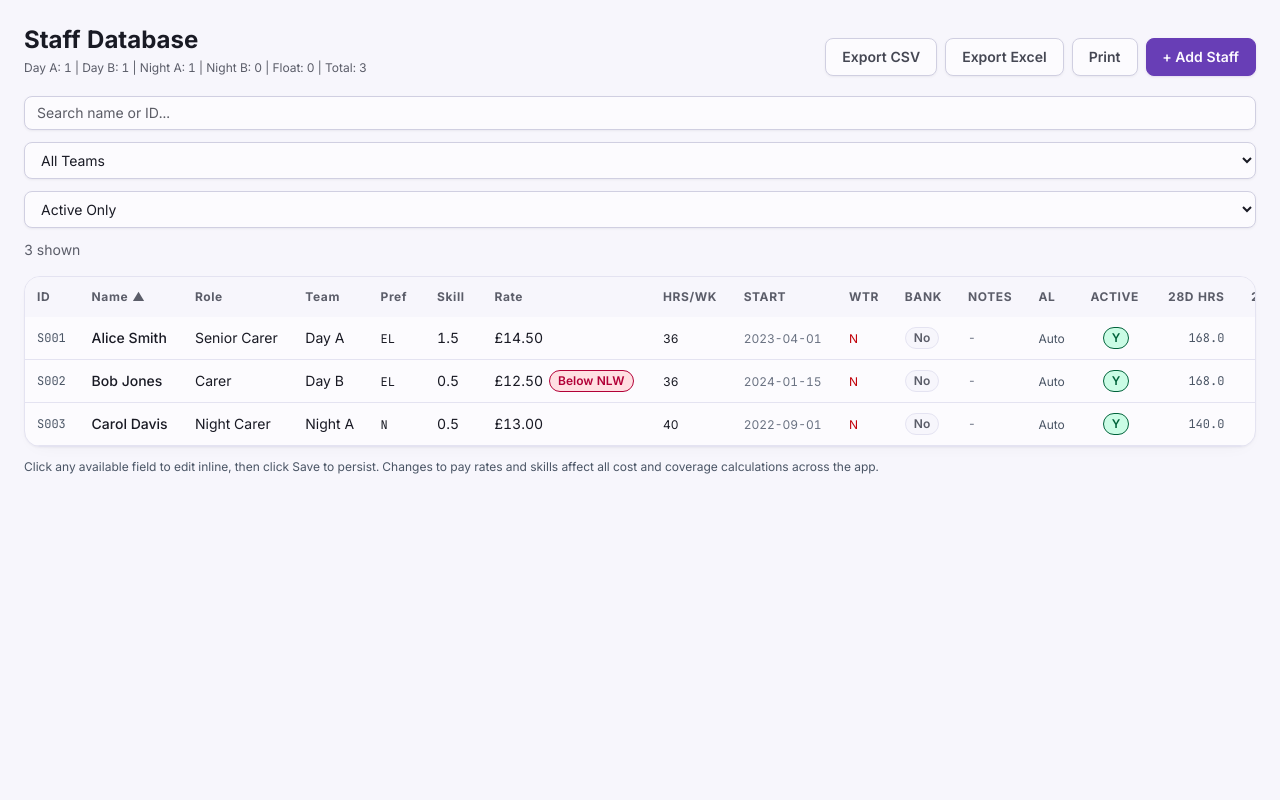
Scenario: StaffRegister › shows an onboarding handoff notice after creating staff
This screenshot has width=1280, height=800.
Click the button "+ Add Staff": {"x": 1201, "y": 57} top-left (1146, 38), bottom-right (1256, 76)
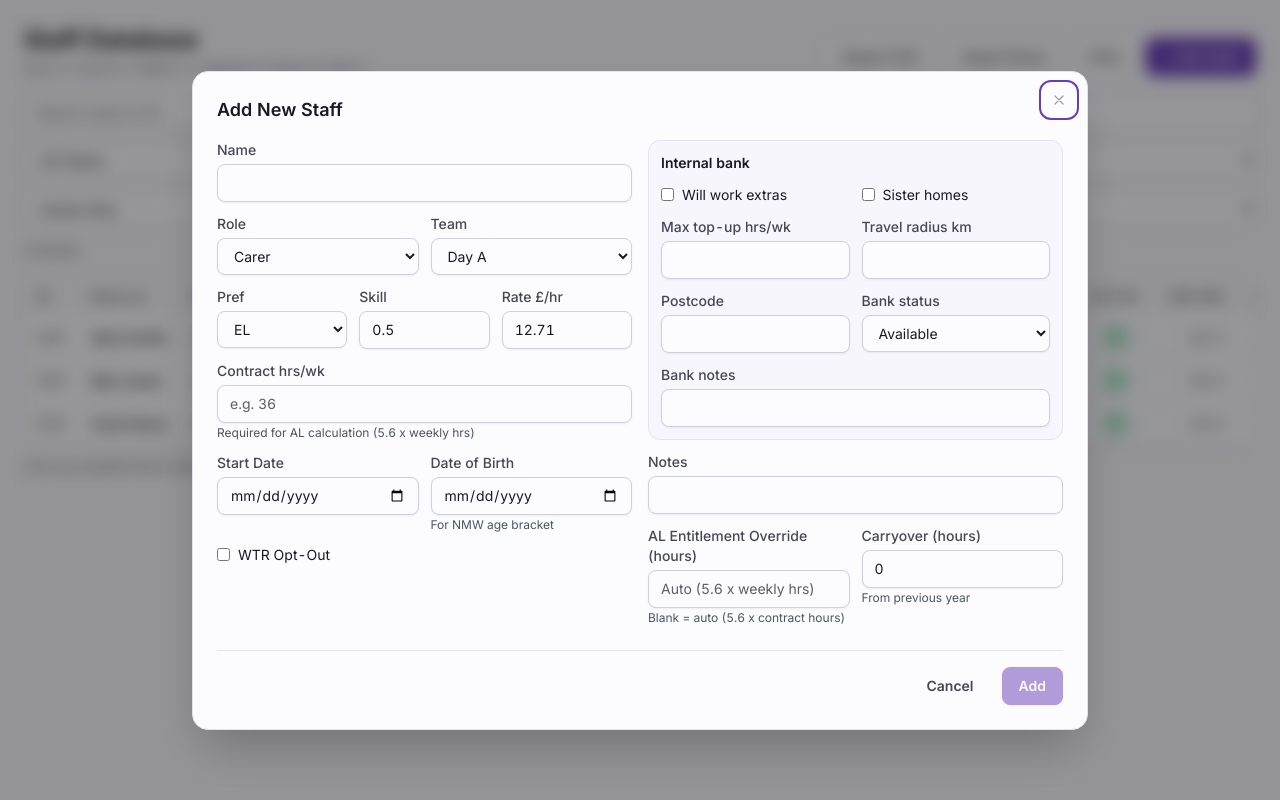
In the field labelled "Name": {"x": 424, "y": 182} top-left (217, 164), bottom-right (632, 202), type "New Starter"
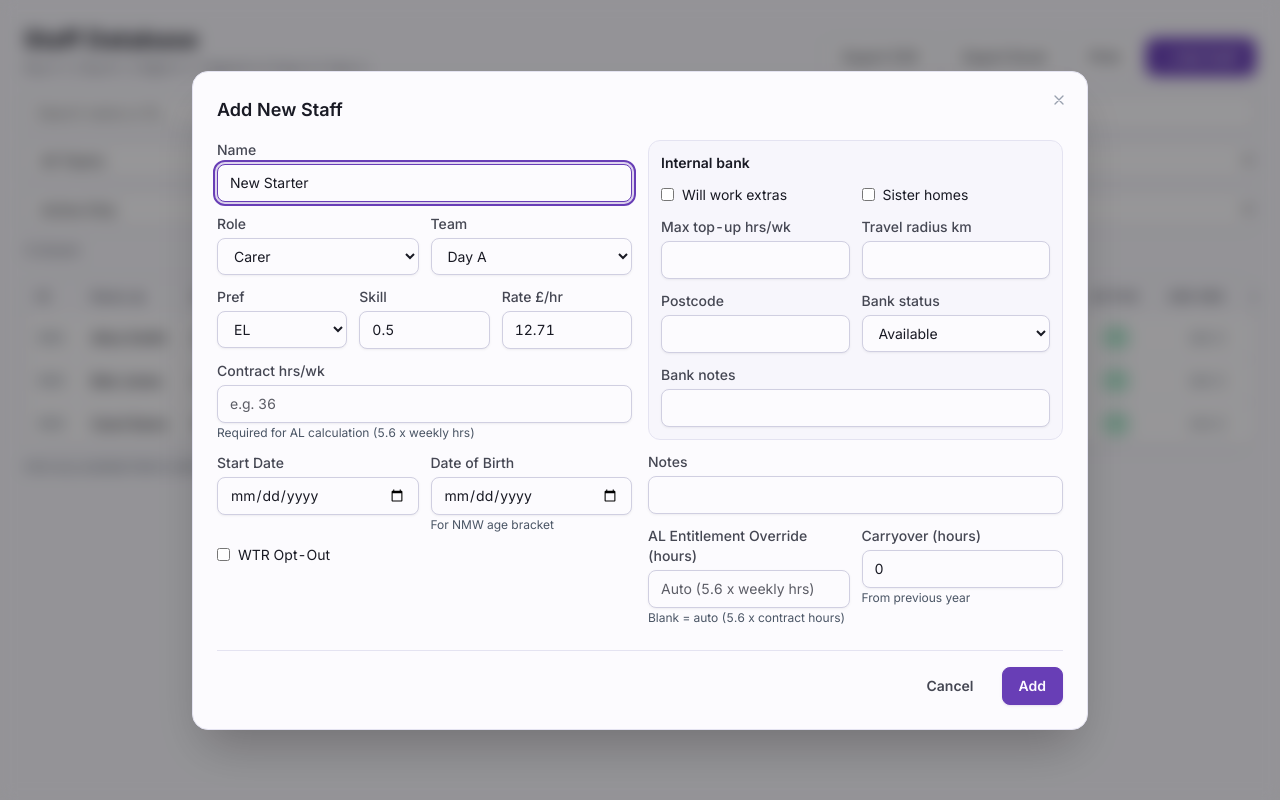
Click the button "Add": {"x": 1032, "y": 686} top-left (1002, 666), bottom-right (1063, 704)
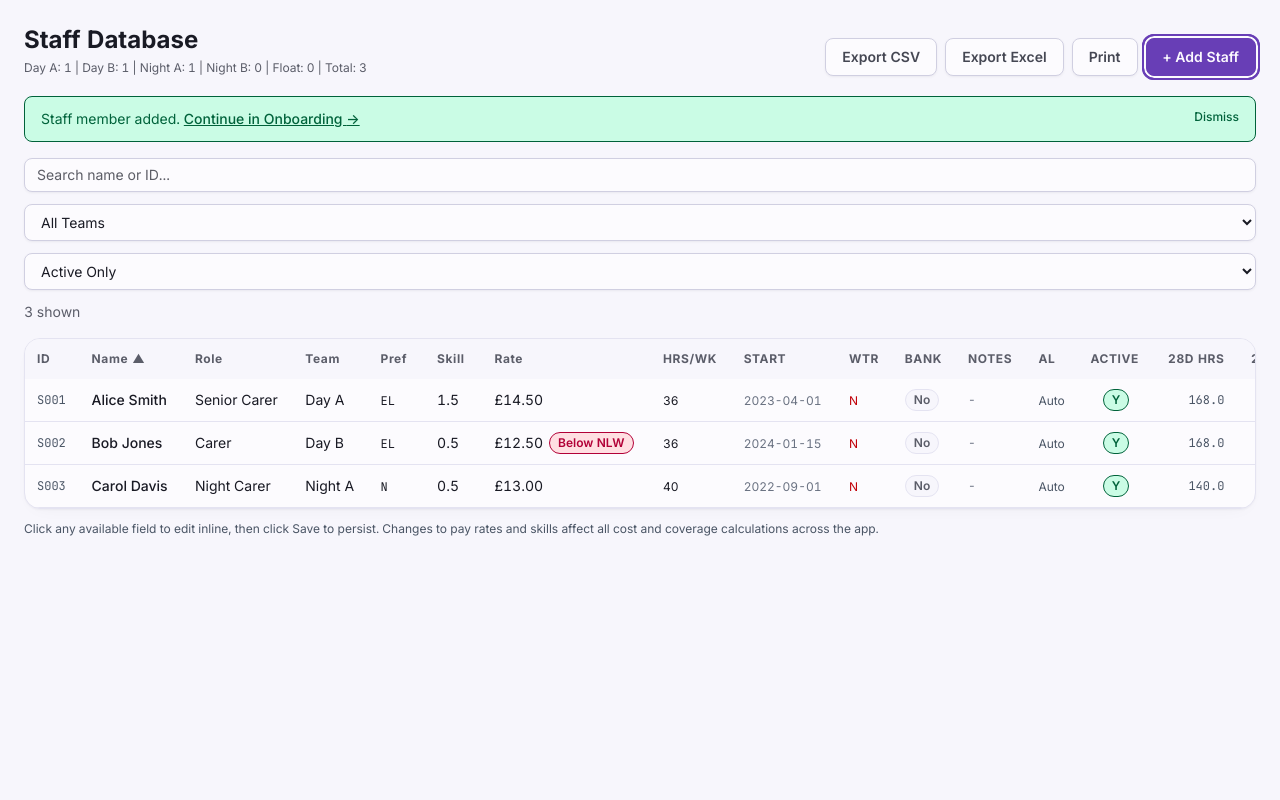
Expected: the text "Staff member added. Continue in Onboarding ->" is shown, top-left (41, 109), bottom-right (360, 129)
